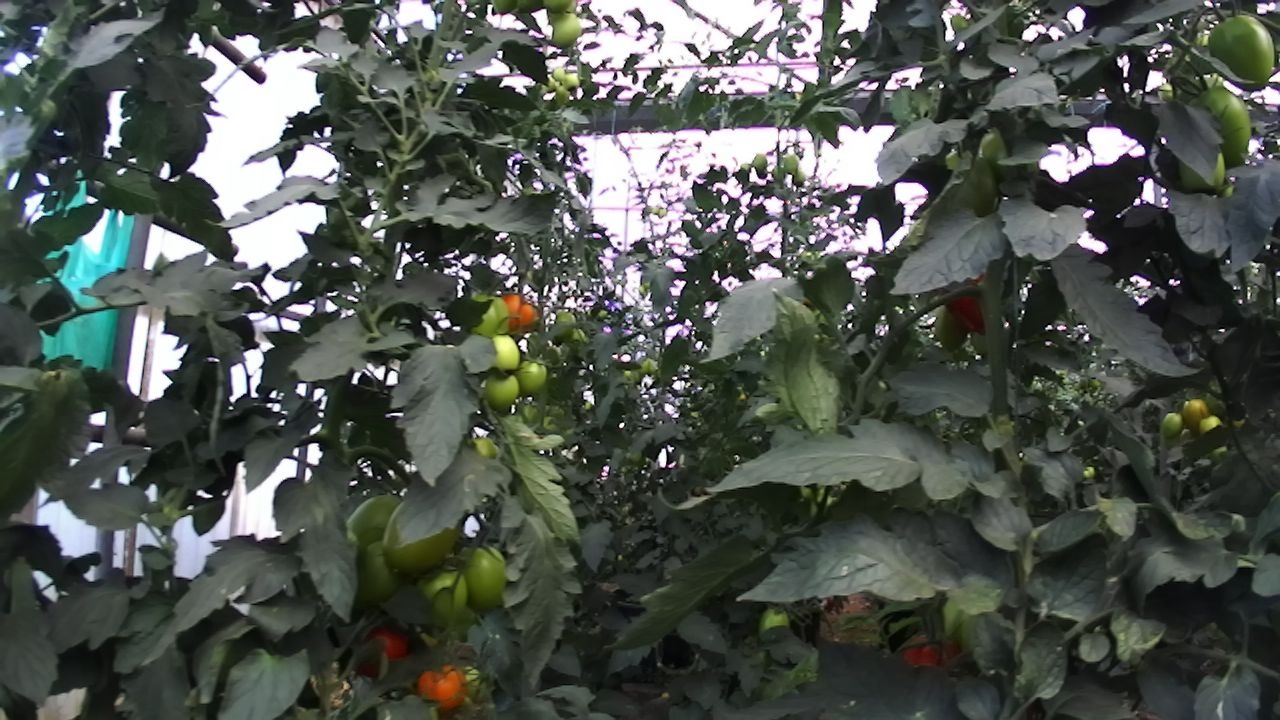tomato: (375, 480, 469, 581), (1180, 72, 1267, 173), (1197, 8, 1280, 94), (336, 477, 415, 551), (347, 536, 413, 611), (410, 557, 476, 626), (456, 543, 519, 614), (462, 286, 519, 347), (411, 659, 474, 713), (492, 284, 547, 339), (478, 327, 528, 376), (930, 304, 977, 356), (478, 369, 528, 413), (544, 6, 585, 54), (754, 600, 795, 647), (512, 352, 553, 399), (1174, 391, 1212, 436), (1151, 403, 1189, 446), (1194, 411, 1228, 445), (751, 149, 772, 175), (781, 152, 801, 175), (561, 72, 583, 92), (550, 64, 568, 83)
